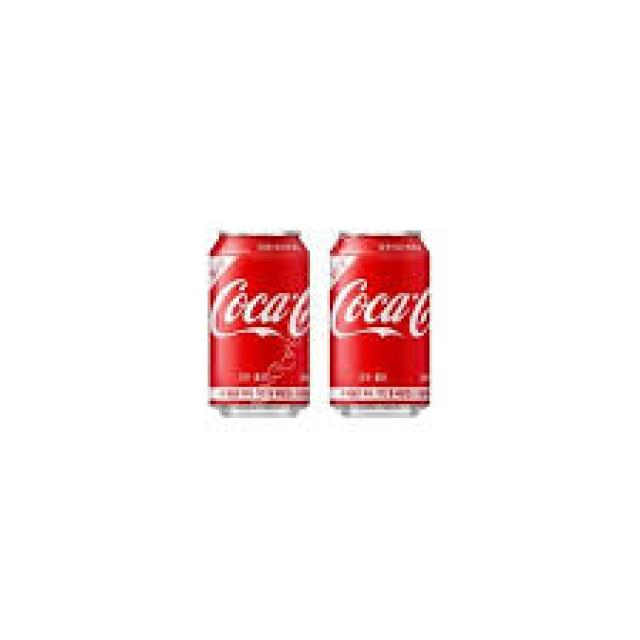Coca-Cola: (198, 221, 319, 429), (320, 217, 435, 432)
